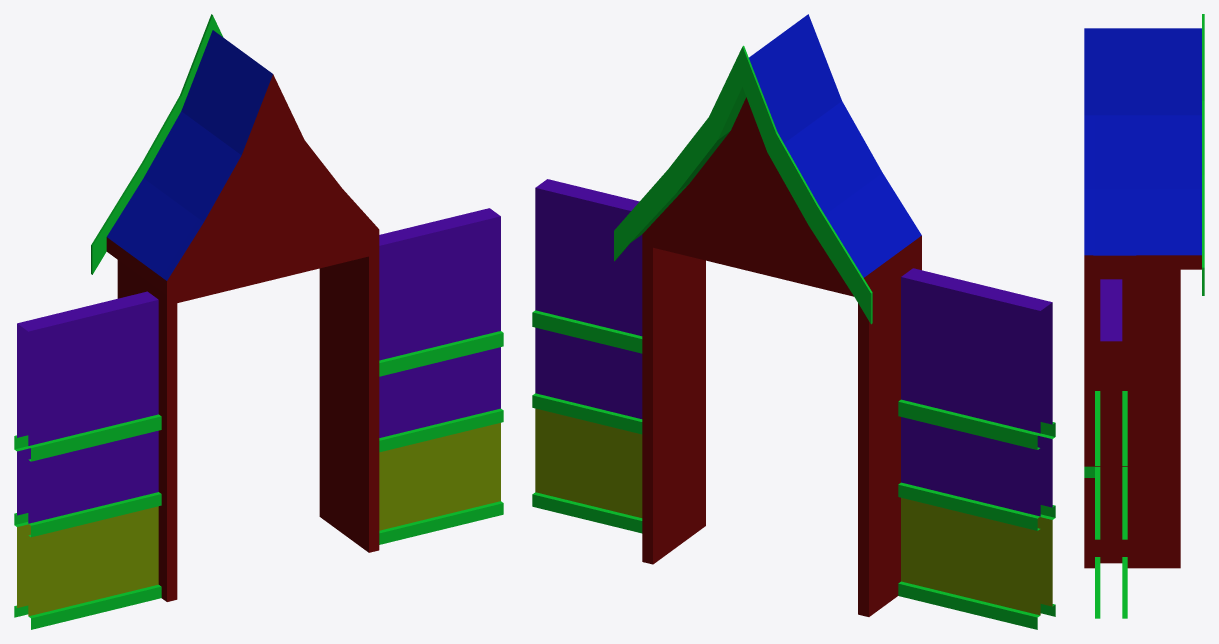
Rendered from ModelTavernLokiArchitectureDoor.FBX.
3 renders of one model, left to right at view 1: azimuth 30°, elevation 25°; view 2: azimuth 150°, elevation 25°; view 3: azimuth 270°, elevation 25°, orthographic. The views are drawn at different scales.
Parts seen in each view (by area): view 1: Mur + Porte; view 2: Mur + Porte; view 3: Mur + Porte.
Part boxes in pixels (box(x1,y1,x2,y2)): Mur + Porte: box(14, 14, 503, 629); Mur + Porte: box(532, 14, 1055, 629); Mur + Porte: box(1084, 14, 1204, 618).
Size of the model in its own units: 501 by 523 by 113.
